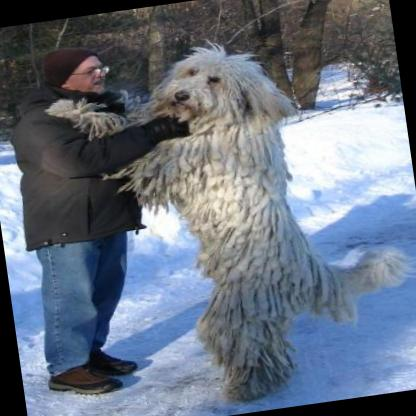komondor: (37, 8, 416, 416)
